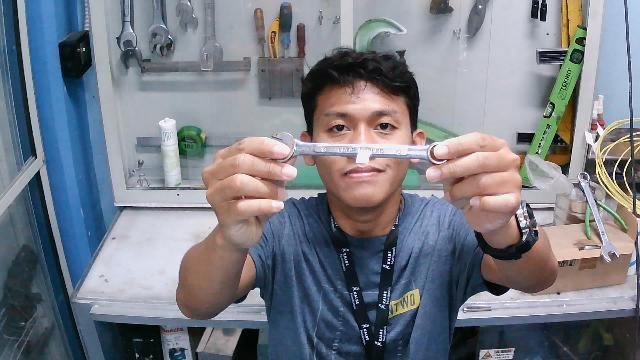kunci_pass_13: (261, 121, 458, 188)
